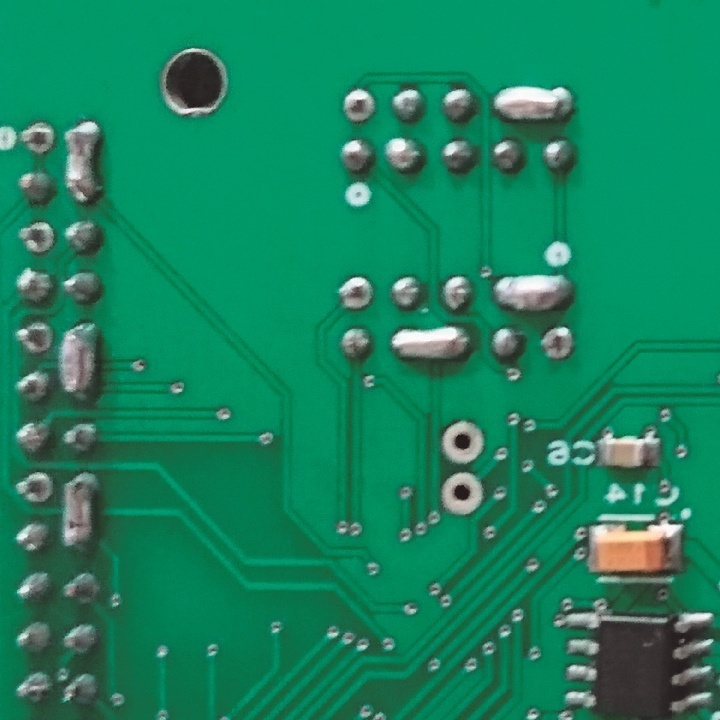F: (439, 417, 487, 464), (439, 469, 484, 518), (16, 219, 58, 259), (13, 466, 53, 508), (15, 118, 56, 158), (334, 273, 374, 313), (11, 320, 56, 355), (342, 86, 377, 125), (539, 324, 574, 362)
P: (491, 82, 574, 129), (488, 274, 575, 314), (59, 321, 99, 403), (389, 325, 471, 364), (61, 473, 99, 554), (63, 118, 99, 202)
